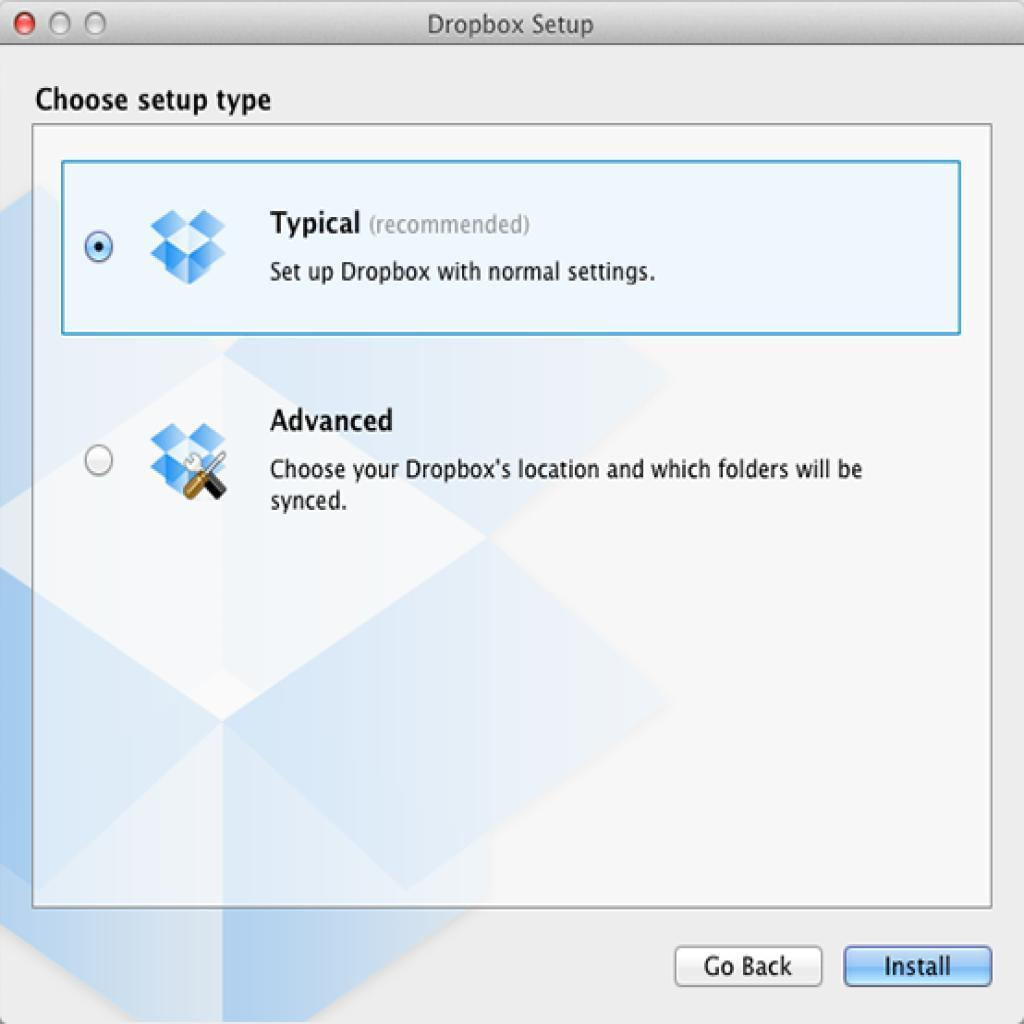button: (846, 945, 993, 988), (673, 950, 823, 989)
radio: (80, 437, 119, 484), (80, 228, 121, 269)
